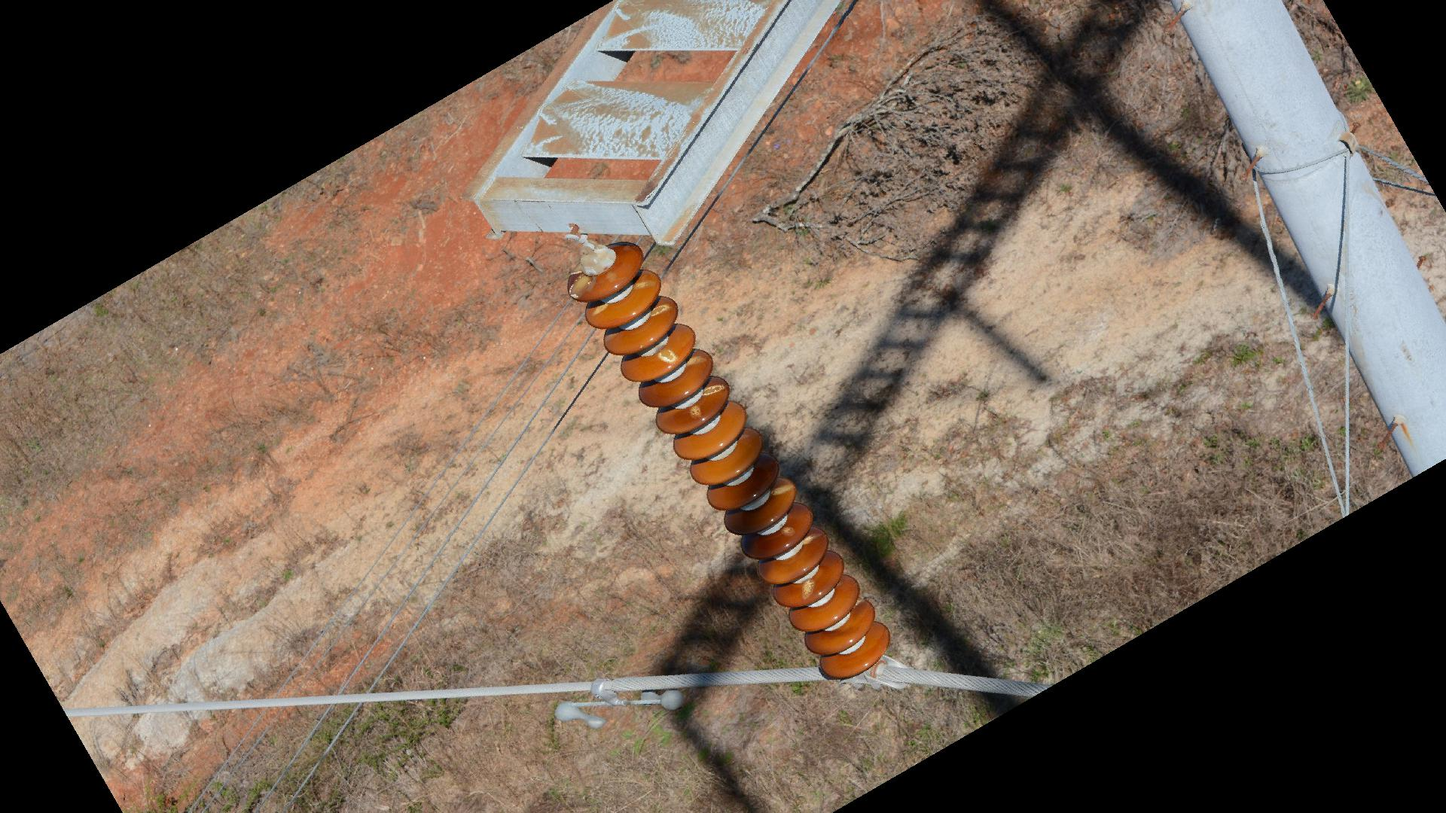insulator: (566, 239, 892, 684)
insulator_flashover: (567, 272, 596, 300), (655, 346, 680, 365), (796, 529, 823, 546), (798, 577, 817, 601), (646, 302, 673, 318), (629, 278, 660, 291), (700, 382, 725, 398), (589, 300, 609, 318), (685, 403, 703, 422), (770, 483, 795, 496)
